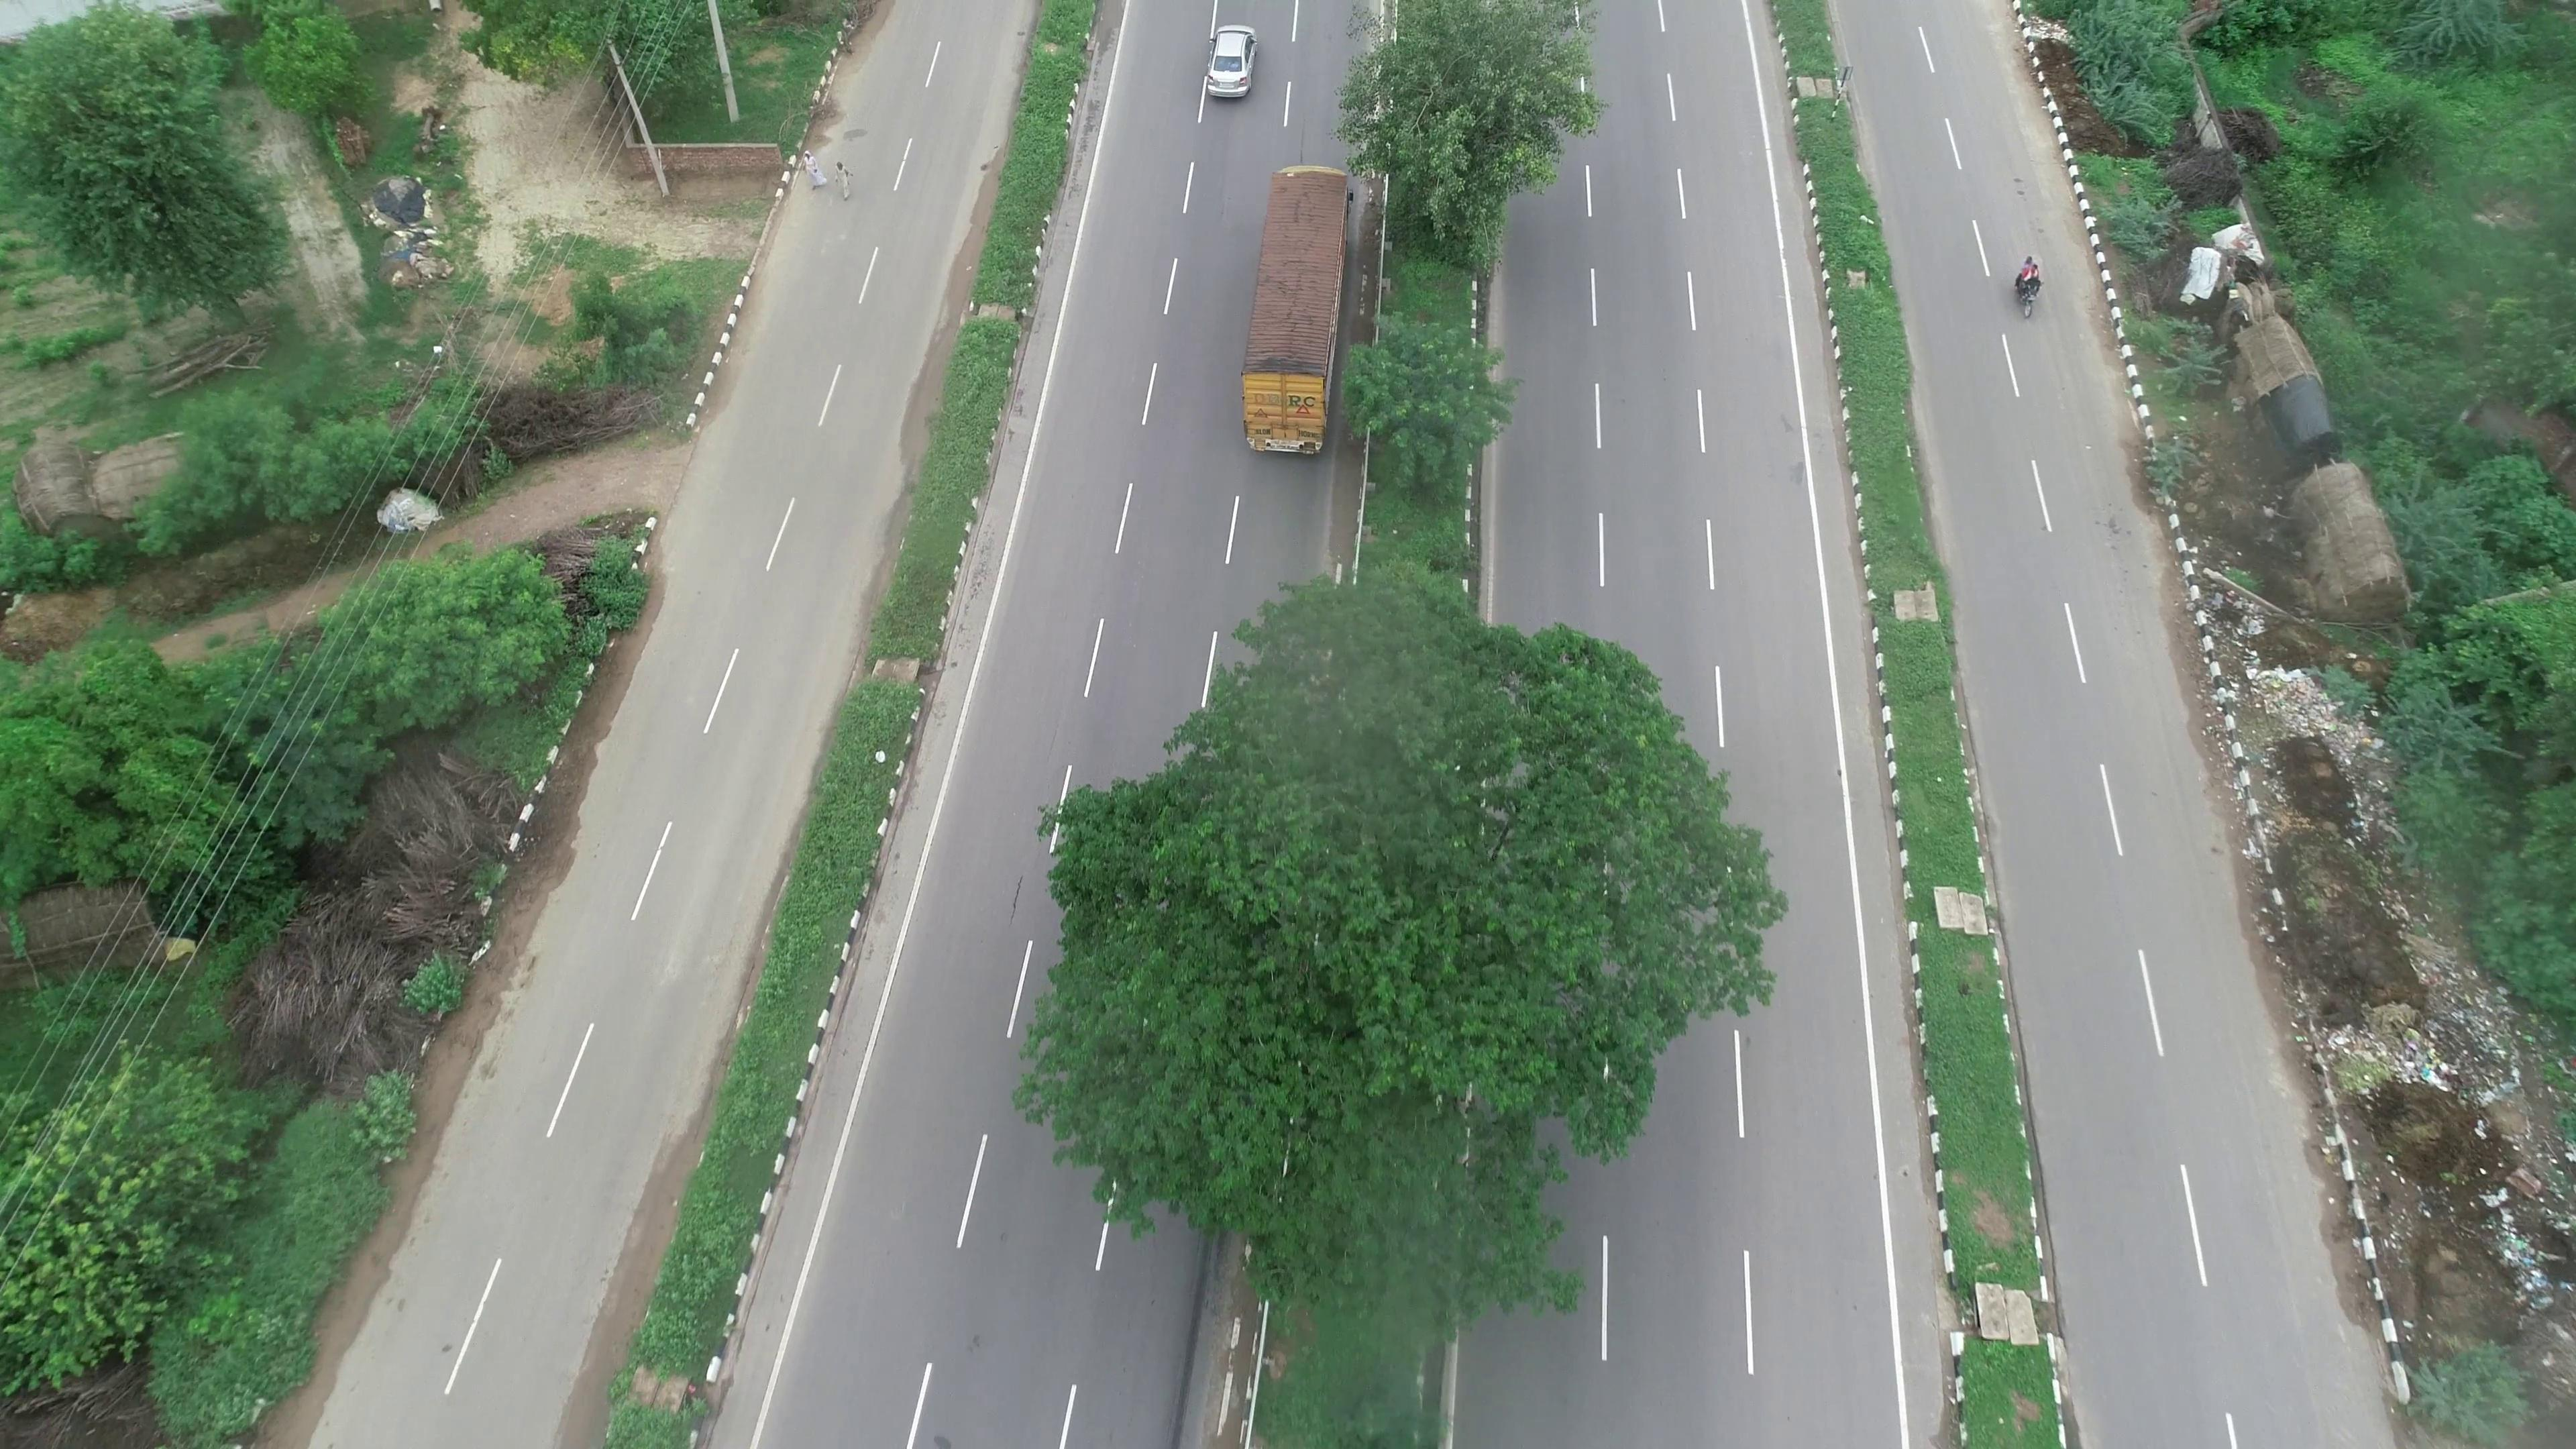Road_side_garbage: (2243, 642, 2404, 842)
